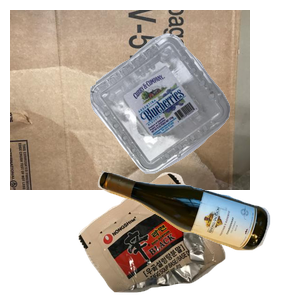cardboard: (10, 10, 250, 190)
glass: (95, 168, 300, 300)
plastic: (88, 31, 300, 198)
trash: (76, 170, 300, 300)
